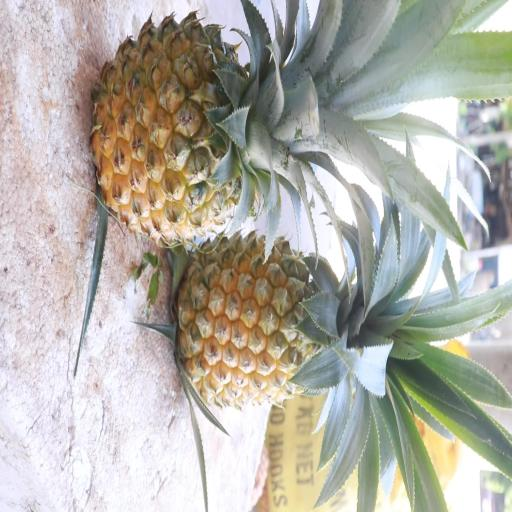Pineapple - v8 v1: (86, 6, 332, 252), (170, 225, 386, 415)
